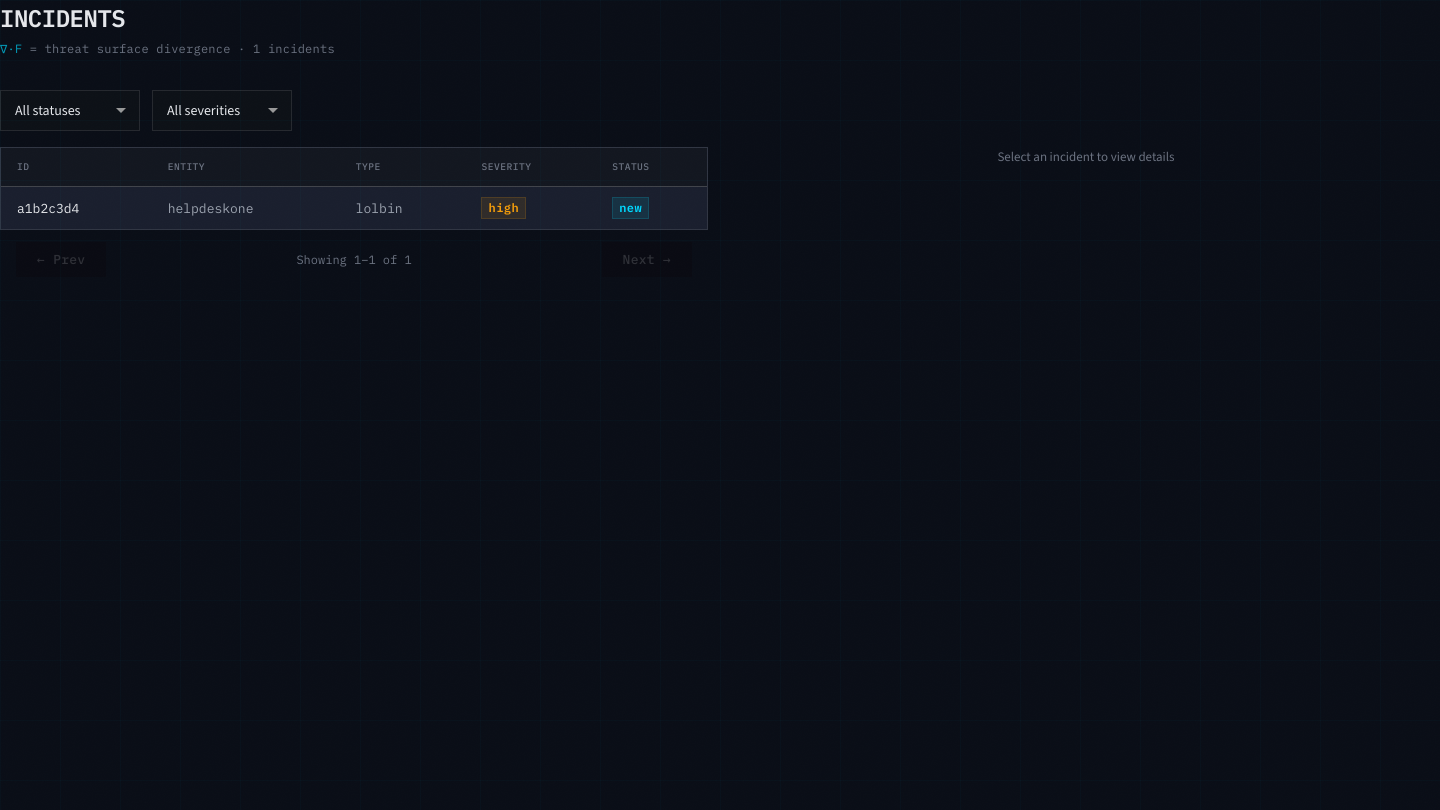
Test: SupervisorReportCard (Phase 3, R-1/FR-1/D-10) › renders the structured report: summary, claims, evidence chips with scores
The width and height of the screenshot is (1440, 810).
Click the text "helpdeskone" at x=246, y=208, box [152,187,340,229]
(page scrolled)
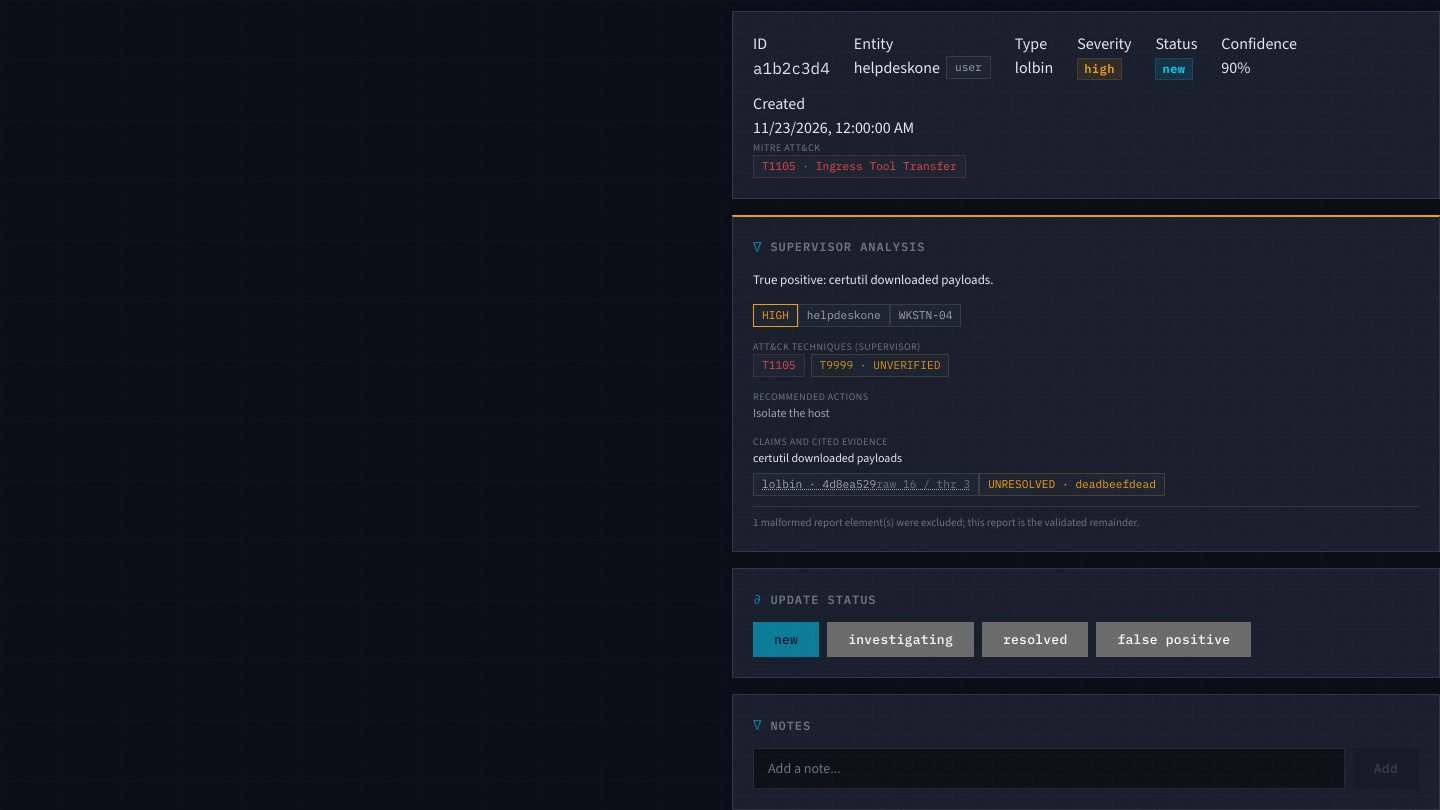
Result: the text "SUPERVISOR ANALYSIS" is shown at [770,239,925,254]
Result: the text "True positive: certutil downloaded payloads." is shown at [753,271,994,288]
Result: the text "certutil downloaded payloads" is shown at [753,450,902,466]
